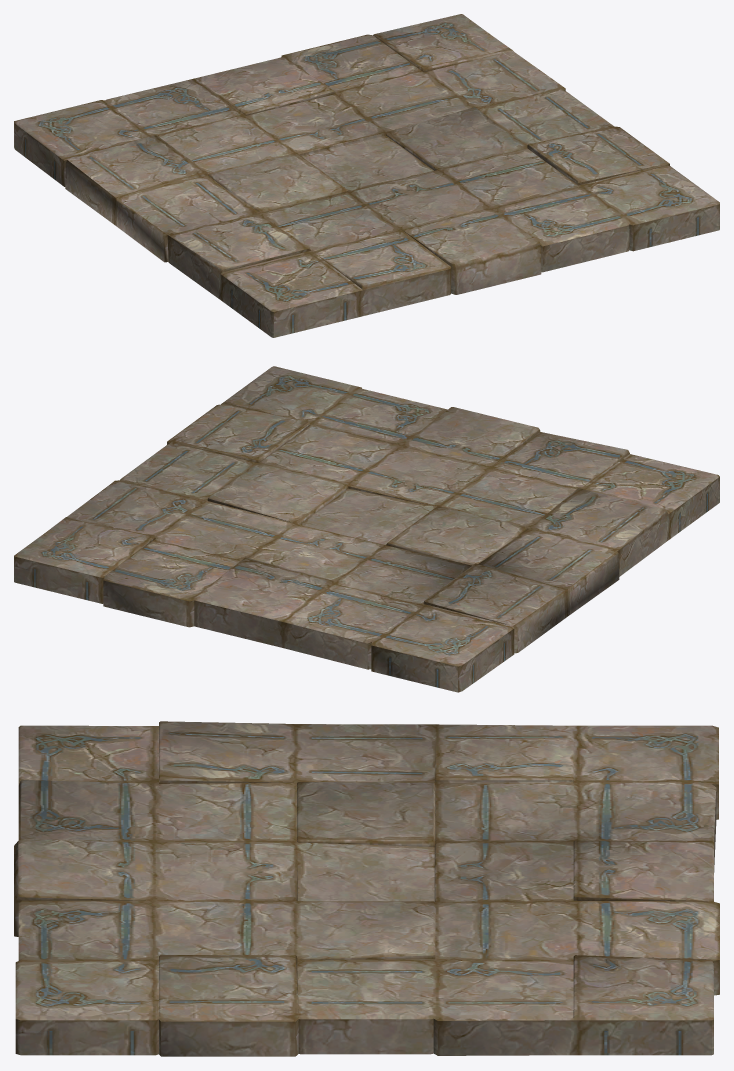
File: all_arch_ruins_floortile.glb
3 views of the same model, one above another, from view 1: azimuth 30°, elevation 25°; view 2: azimuth 150°, elevation 25°; view 3: azimuth 270°, elevation 25° (orthographic). The views are drawn at different scales.
Visible parts, largest first — view 1: all_arch_ruins_floortile; view 2: all_arch_ruins_floortile; view 3: all_arch_ruins_floortile.
Boxes of the visible parts, x1,y1,x2,y2 form: all_arch_ruins_floortile: [14, 14, 719, 337]; all_arch_ruins_floortile: [14, 366, 719, 692]; all_arch_ruins_floortile: [14, 721, 719, 1056].
Bounding box in the file's own units: 1.22 × 0.08 × 1.22.
Materials: 1 (1 with a texture image).
